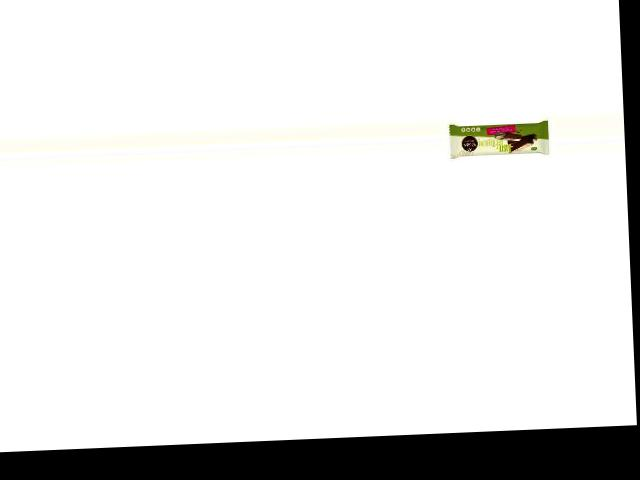chocolate: (449, 116, 551, 161)
